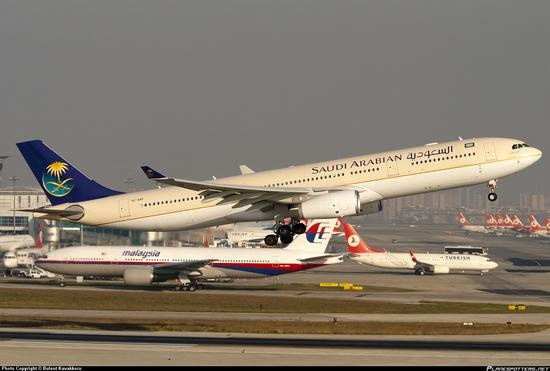airplane: (43, 123, 548, 242), (36, 217, 343, 286), (340, 243, 502, 277)
